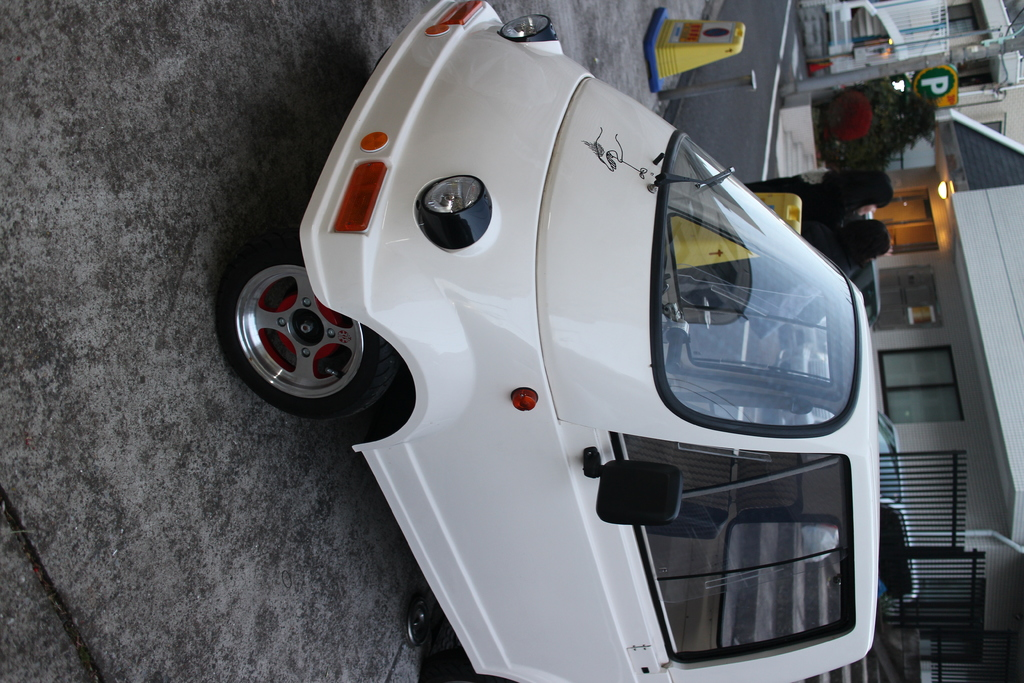Car: (210, 0, 874, 682)
